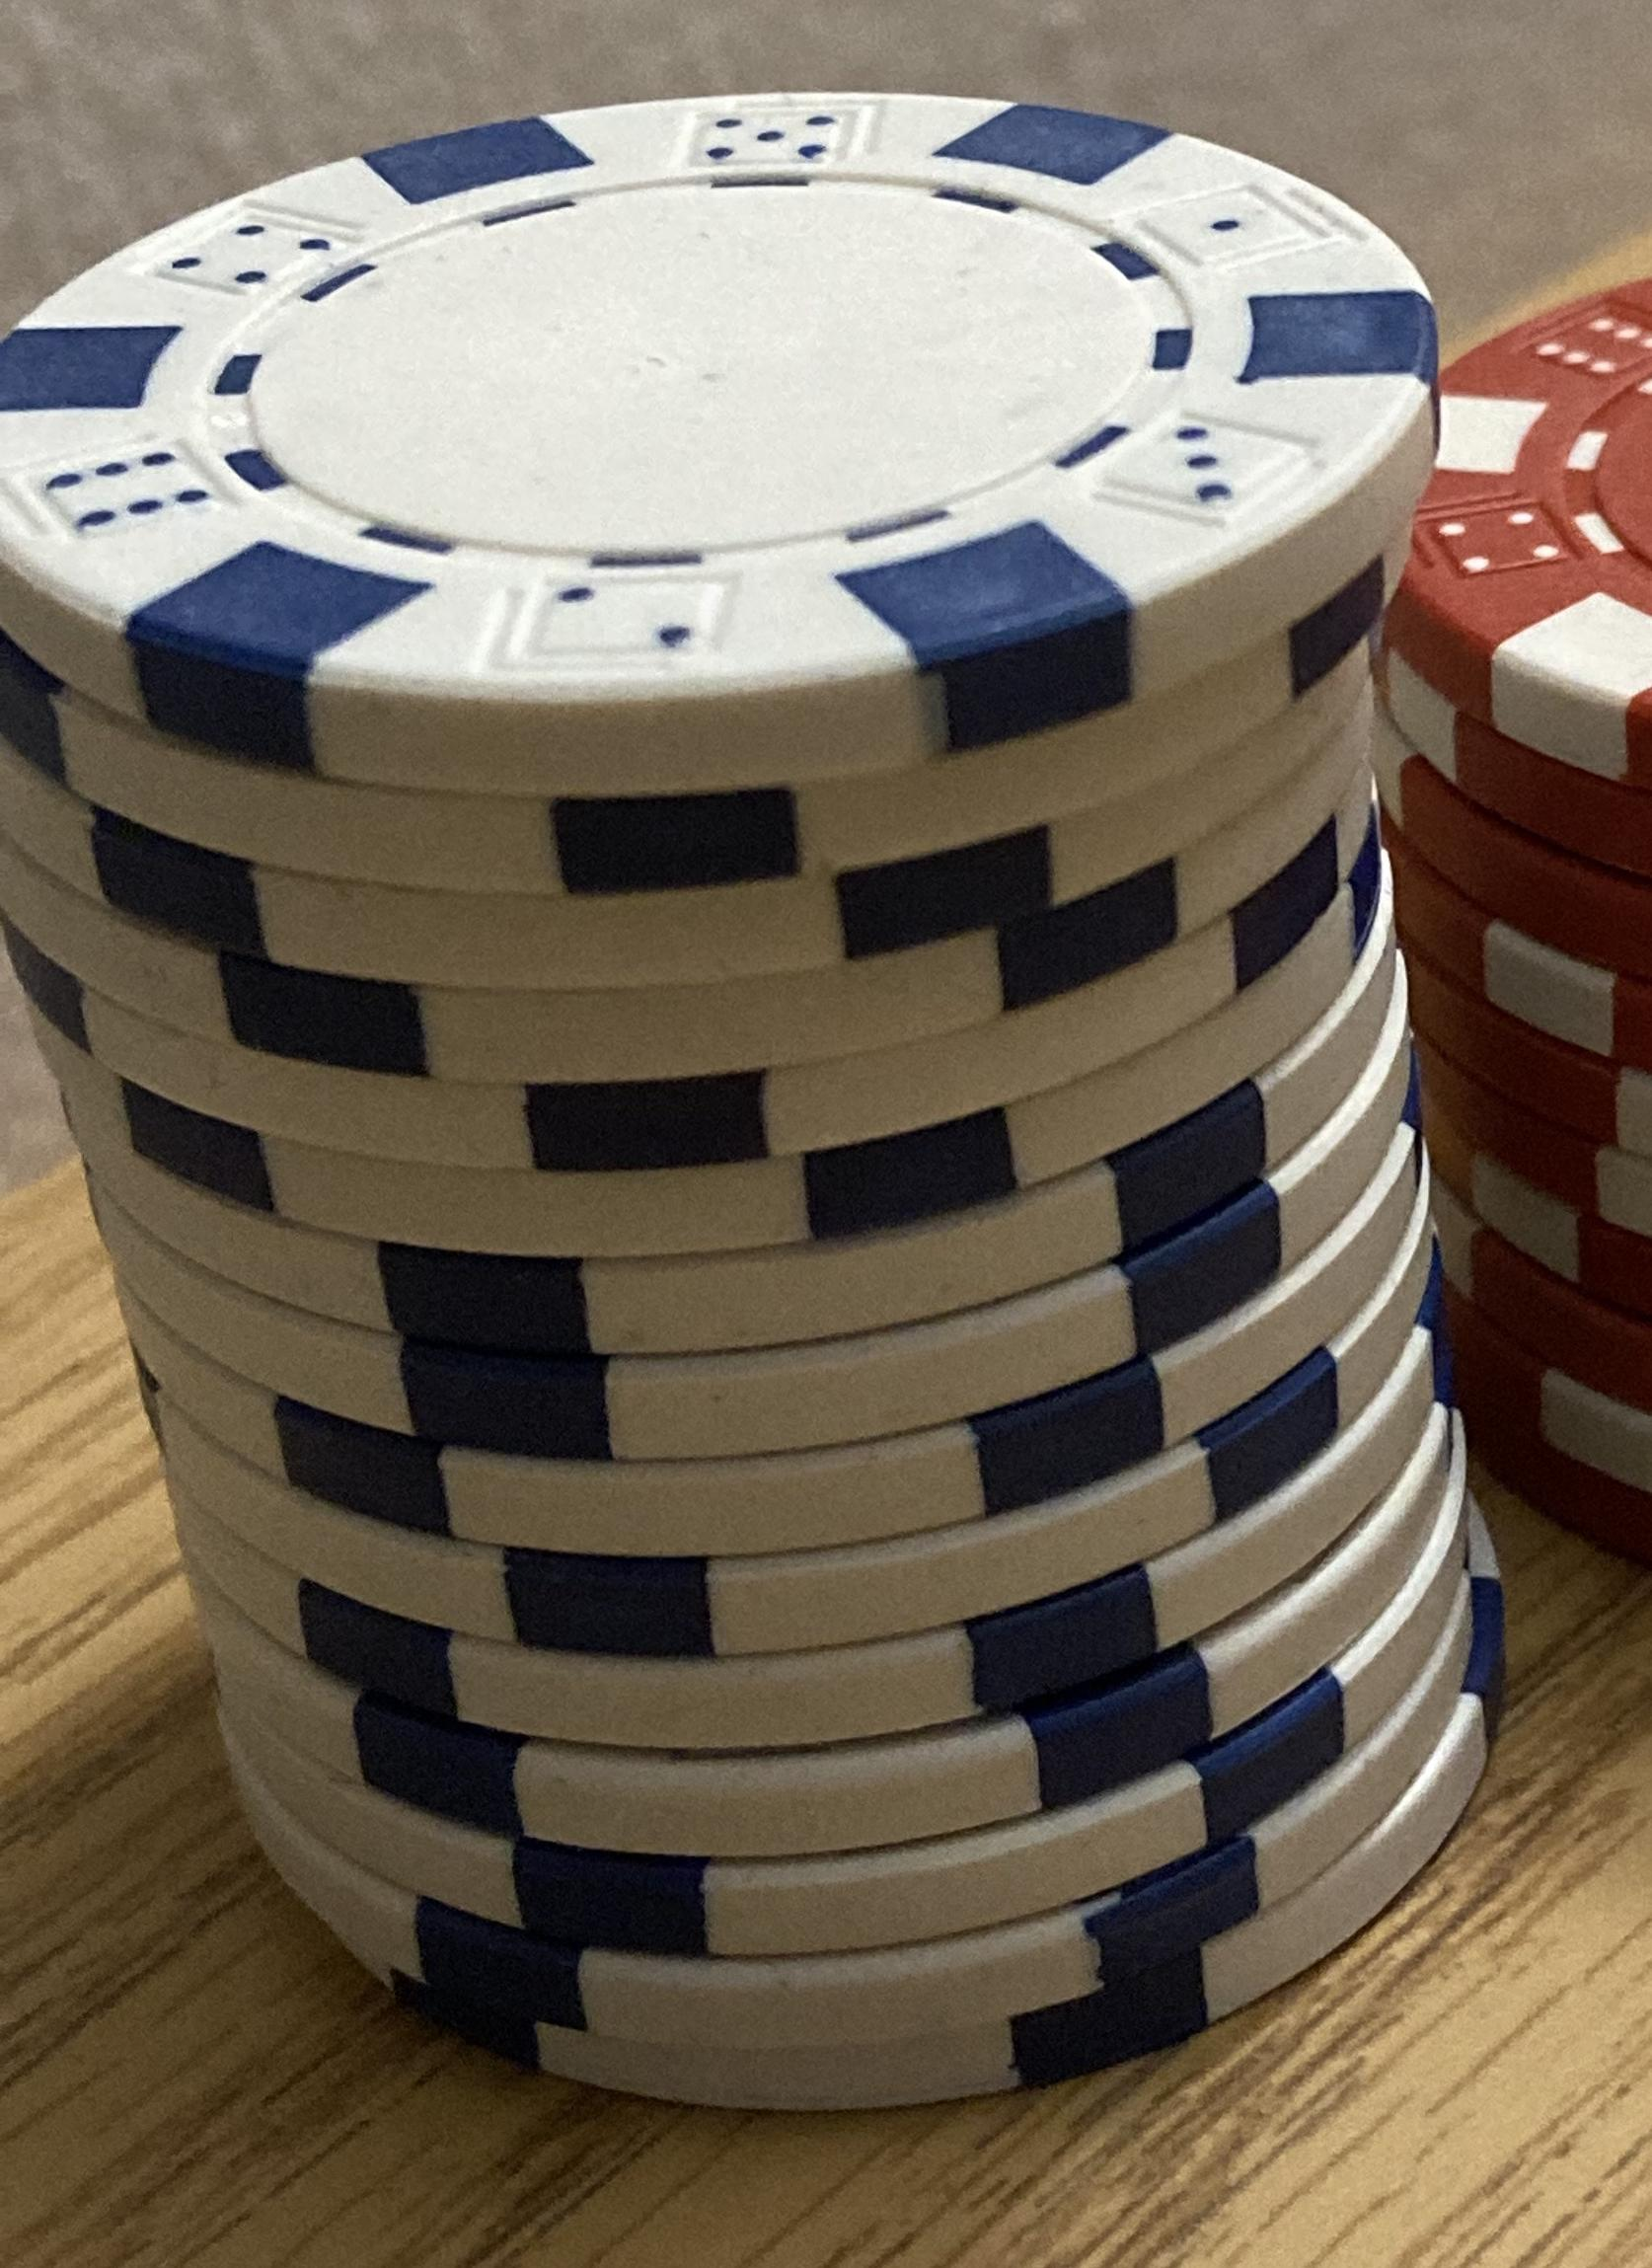Chip: (2, 2, 1652, 2268)
